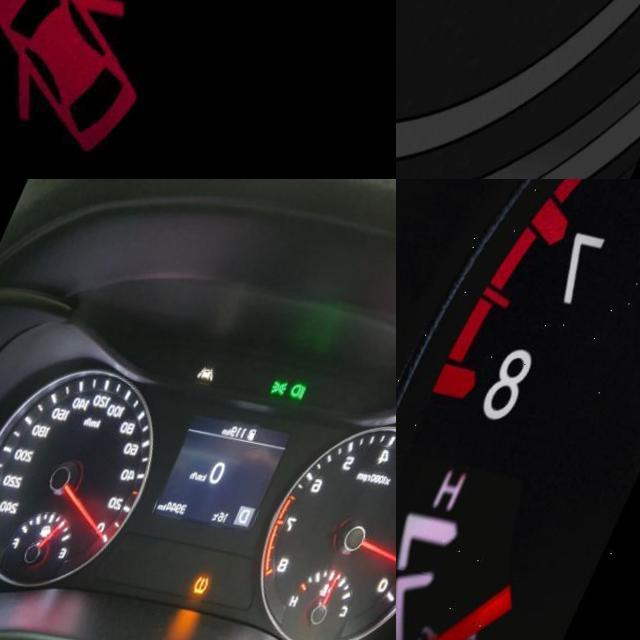LaneCenteringOff: (208, 363, 230, 380)
Low beam: (299, 380, 321, 399)
SideLamp: (279, 377, 302, 396)
